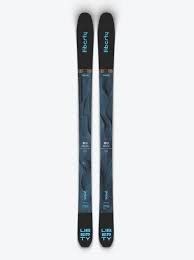skis: (74, 11, 118, 247)
